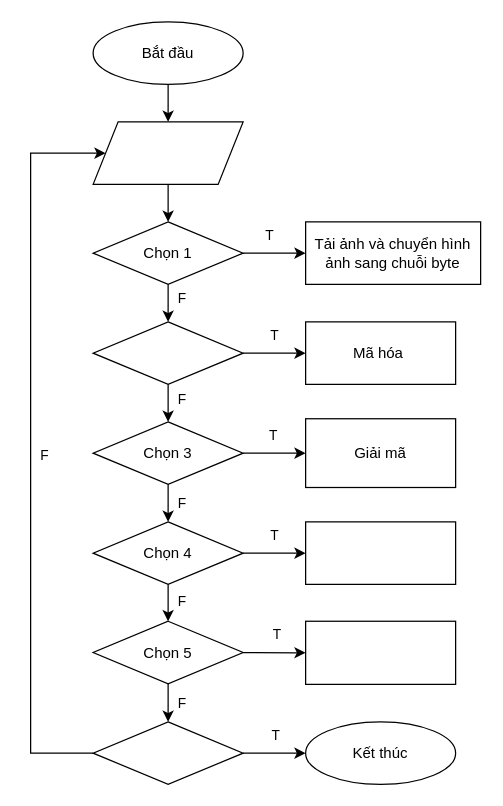
Image size: 503x806. Some labels were removed from this diagram. Each missing label, with the centre of its shape:
Chọn 0: [167,752]
Chọn 2: [167,352]
Chọn chức năng: [167,152]
Dụng lại ảnh mã hóa và lưu lại: [380,552]
Dựng lại hình ảnh gốc và lưu lại: [380,652]
